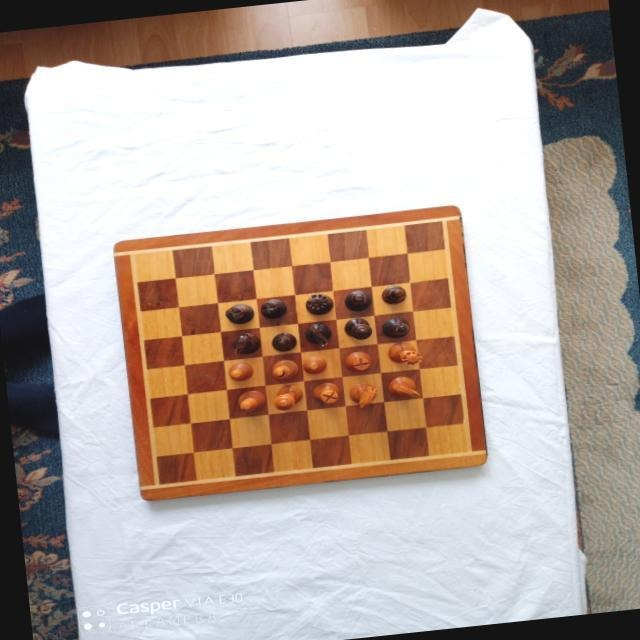black-bishop: (342, 287, 372, 312), (381, 315, 411, 339)
black-king: (343, 314, 373, 341)
black-knight: (303, 321, 333, 348), (231, 331, 261, 356)
black-pawn: (379, 282, 407, 305), (270, 330, 298, 353)
black-queen: (302, 291, 333, 316)
black-rook: (222, 302, 254, 325), (258, 296, 286, 320)
white-bishop: (234, 389, 266, 413), (269, 358, 299, 381)
white-king: (271, 384, 303, 412)
white-knight: (347, 382, 381, 410), (386, 374, 420, 400)
white-pawn: (300, 354, 328, 376), (226, 360, 254, 381)
white-queen: (385, 339, 422, 368)
white-rook: (310, 380, 340, 405), (343, 349, 373, 372)
